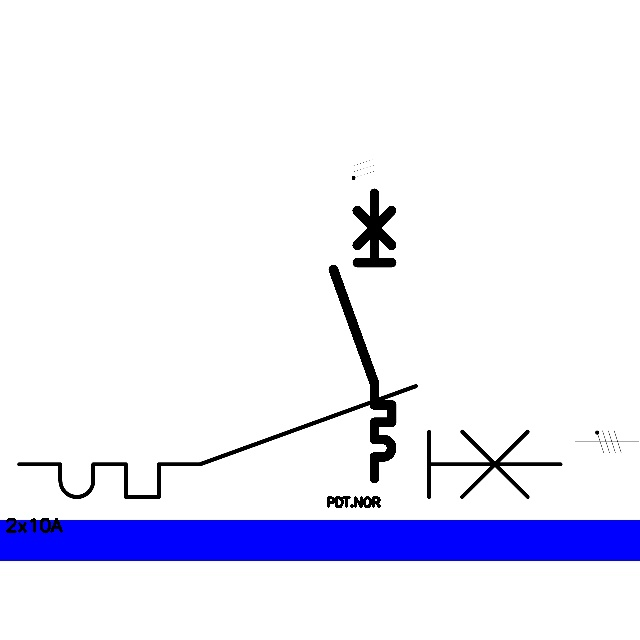interruptor_termomagnetico: (5, 372, 574, 511), (326, 185, 399, 485)
